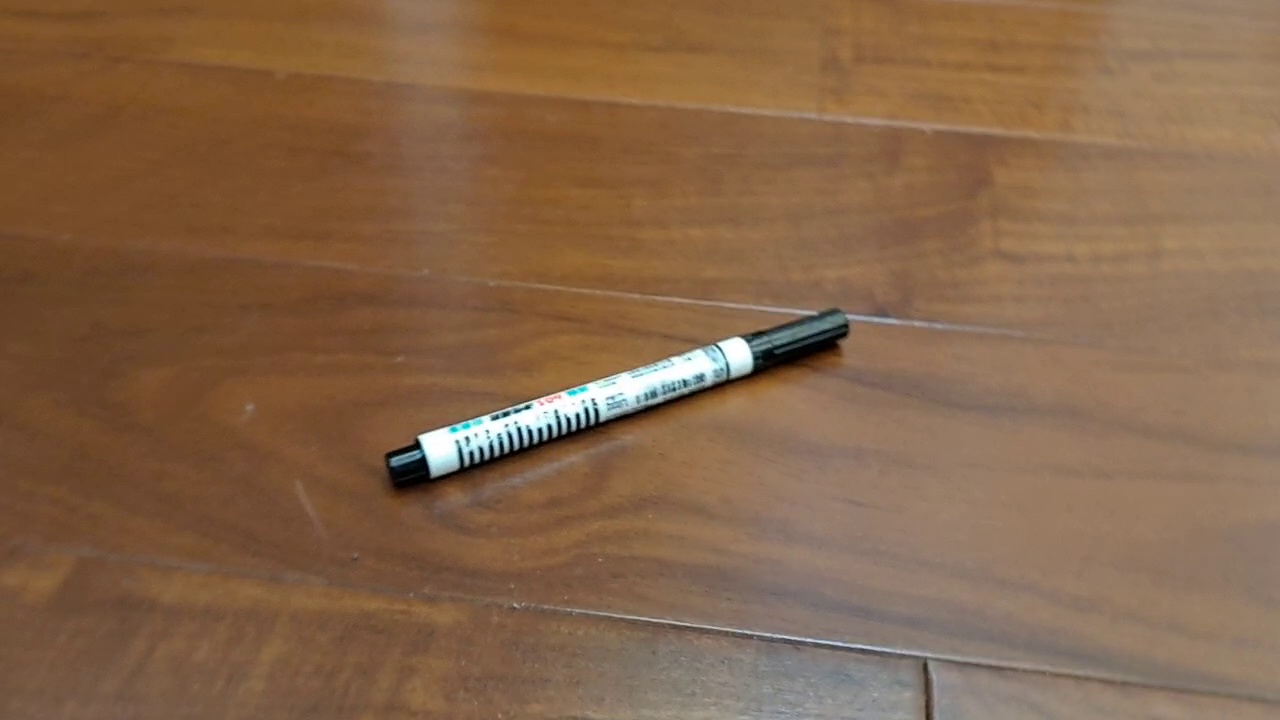pen: (384, 307, 851, 490)
